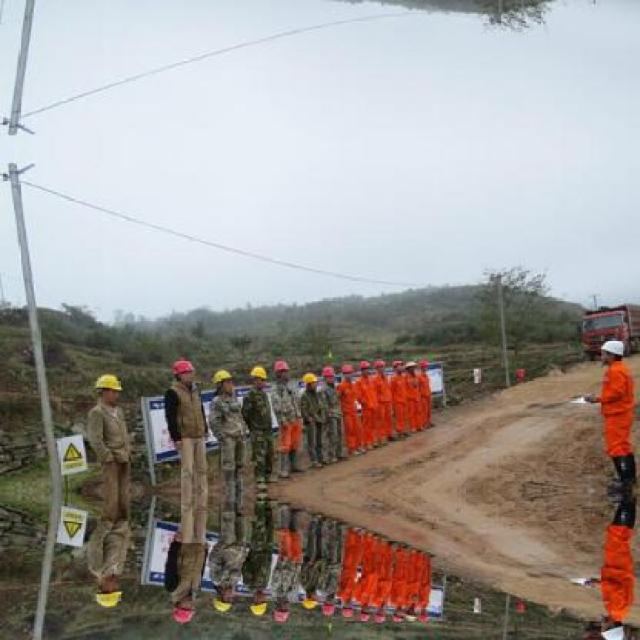helmet: (93, 371, 122, 404), (93, 575, 122, 607), (170, 592, 196, 623), (600, 334, 626, 364), (170, 356, 196, 386), (599, 614, 626, 638), (210, 368, 233, 394), (210, 584, 233, 610), (249, 362, 268, 388), (249, 590, 268, 616), (271, 355, 289, 380), (300, 369, 318, 394), (271, 599, 289, 623), (300, 585, 318, 609), (320, 364, 334, 384), (339, 361, 353, 381), (320, 594, 334, 614), (339, 598, 353, 618), (372, 355, 386, 374), (358, 358, 371, 378), (358, 601, 371, 621), (372, 605, 386, 623), (391, 355, 403, 374), (391, 605, 403, 623)
